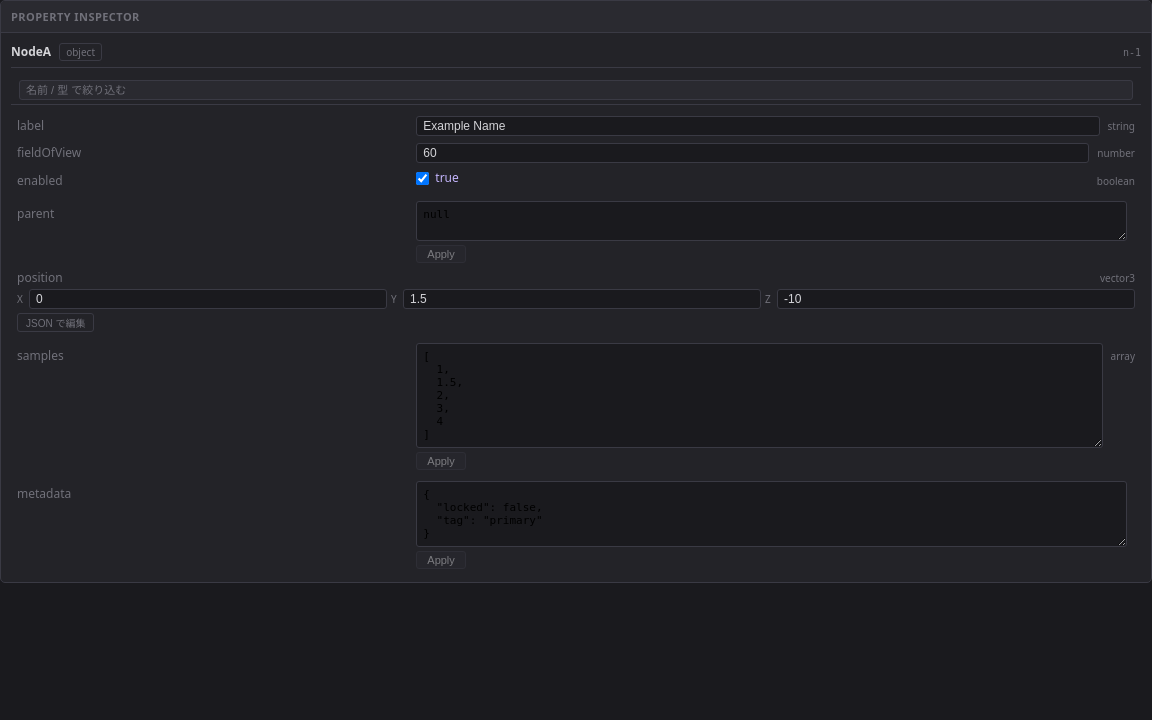
Scenario: PropertyInspectorPanel — scalar commit › shows an inline error and does not commit a non-numeric number entry
The width and height of the screenshot is (1152, 720).
Clear the number field showing "60": (753, 153) 416,143 -> 1089,163
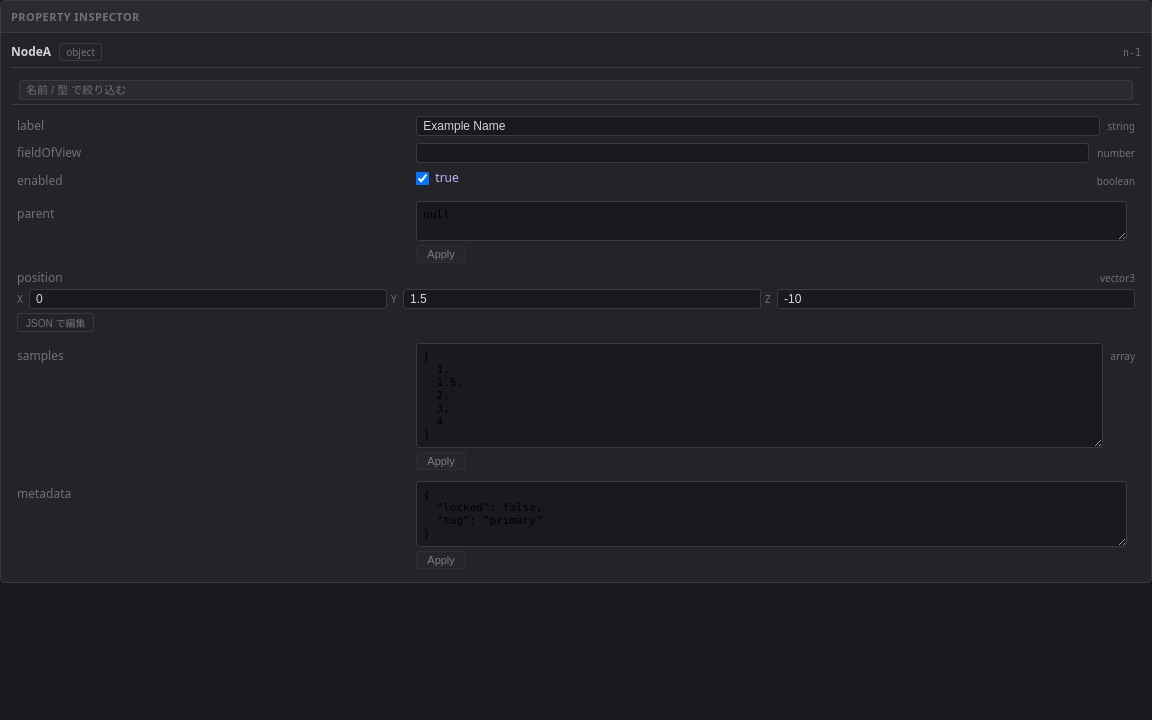
Leave the number field showing "60", box 416,143 -> 1089,163
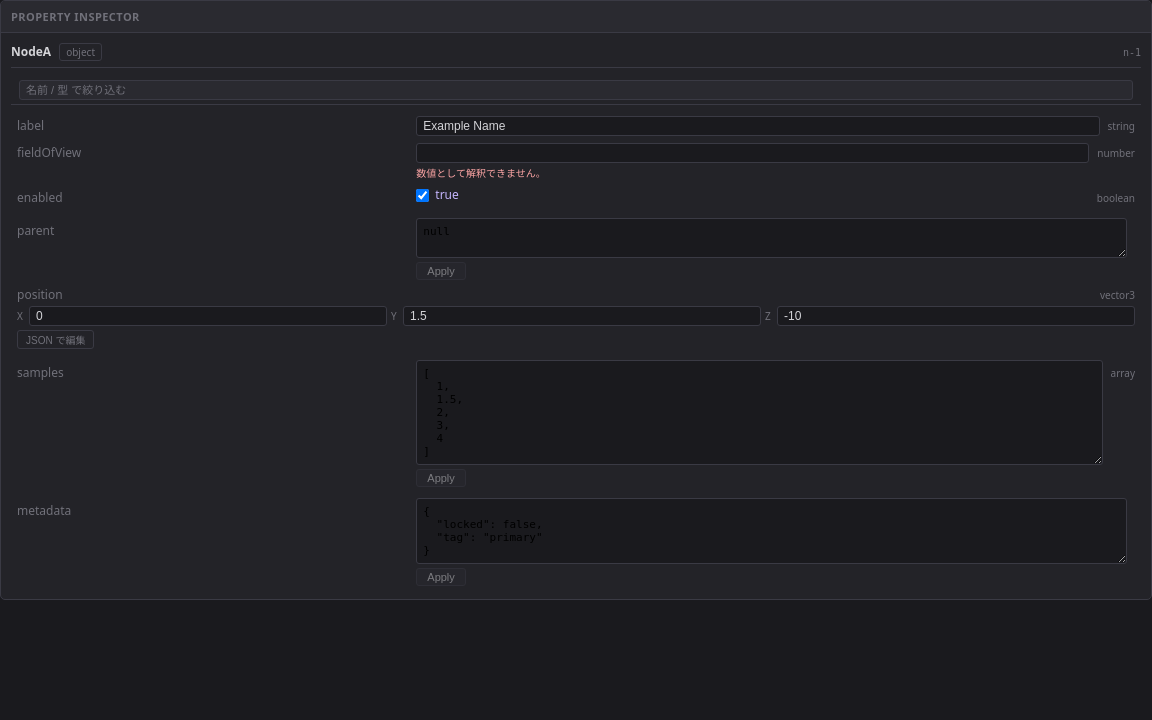
Now the text "数値として解釈できません。" is shown, box 416,166 -> 546,180
